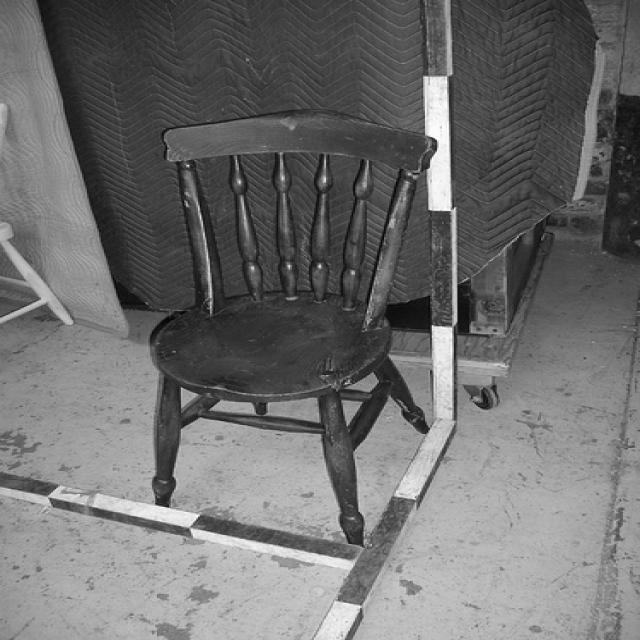chair: (136, 107, 438, 545)
